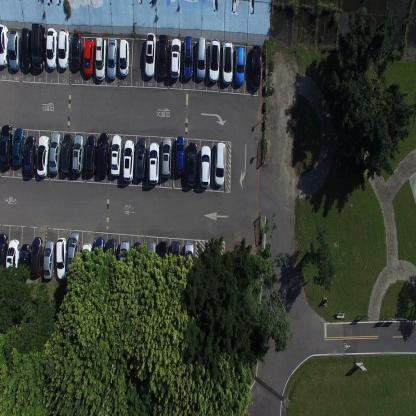car: (66, 232, 81, 279), (5, 238, 20, 284), (32, 22, 45, 73), (249, 43, 262, 90), (0, 123, 13, 169), (199, 145, 212, 189), (186, 141, 198, 188), (48, 131, 61, 174), (45, 27, 58, 70), (143, 32, 155, 78), (208, 36, 220, 82), (18, 242, 30, 288), (36, 134, 49, 176), (182, 34, 194, 79), (97, 132, 109, 177), (71, 133, 84, 174), (110, 134, 122, 178), (214, 140, 225, 187), (148, 141, 160, 184), (157, 240, 169, 283), (82, 35, 94, 78), (55, 236, 67, 279), (24, 135, 36, 178), (222, 38, 233, 84), (169, 36, 181, 78), (106, 38, 118, 80), (60, 132, 72, 174), (157, 32, 168, 77), (123, 138, 134, 183), (95, 36, 106, 81), (106, 237, 117, 282), (43, 239, 55, 280), (8, 30, 20, 71), (135, 136, 146, 180), (70, 31, 82, 71), (30, 236, 42, 276), (12, 127, 24, 167), (58, 28, 70, 68), (145, 240, 156, 283), (85, 134, 96, 176), (119, 240, 130, 281), (21, 26, 31, 71), (196, 35, 206, 79), (0, 232, 9, 280), (171, 241, 181, 284), (94, 236, 104, 279), (0, 22, 9, 68), (162, 138, 172, 179), (184, 241, 194, 282), (82, 242, 92, 283), (175, 135, 185, 175), (131, 241, 141, 281), (118, 37, 128, 76), (235, 46, 245, 85)
